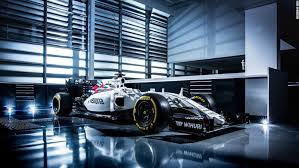FormulaOneCar: (48, 72, 256, 145)
